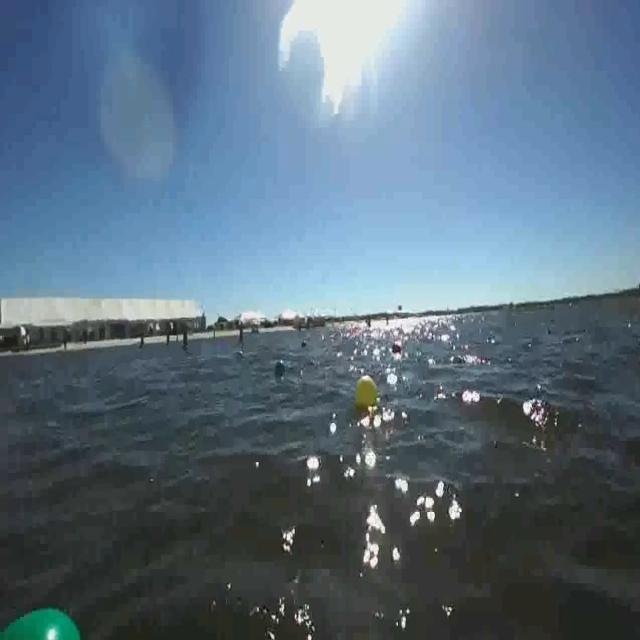green-buoy: (0, 601, 93, 640)
yellow-buoy: (354, 373, 378, 412)
